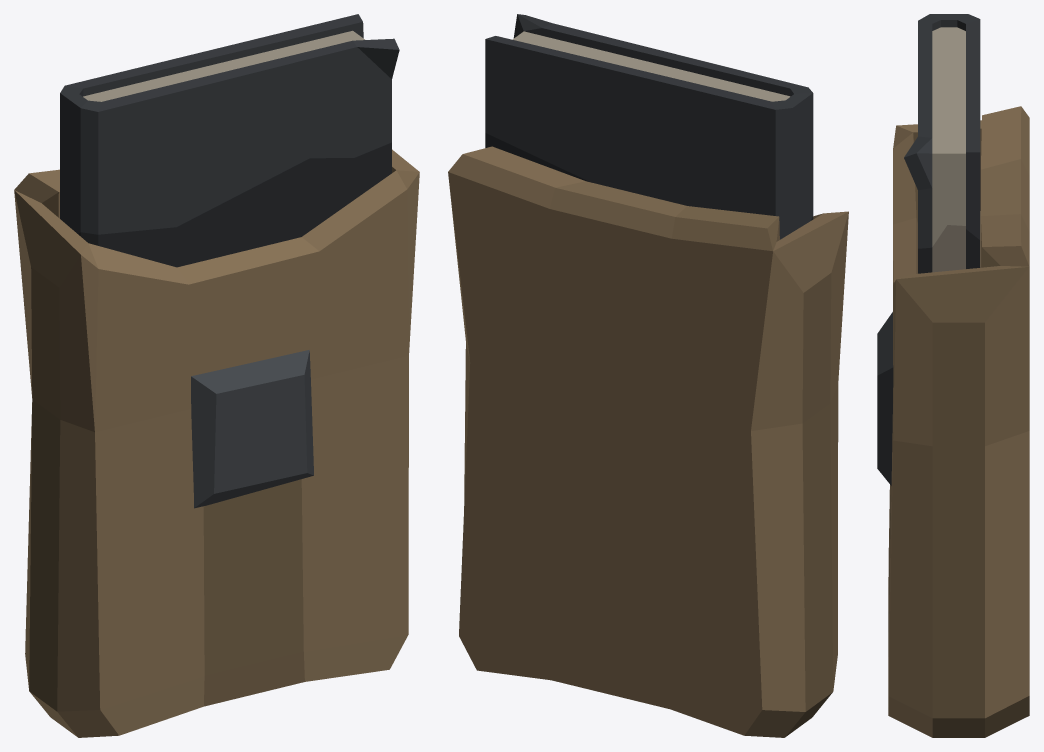
The model's file is SM_Chr_Attach_Book_Pouch_01.fbx.
3 renders of one model, left to right at view 1: azimuth 30°, elevation 25°; view 2: azimuth 150°, elevation 25°; view 3: azimuth 270°, elevation 25°, orthographic. The views are drawn at different scales.
Visible parts, largest first — view 1: SM_Chr_Attach_Book_Pouch_01; view 2: SM_Chr_Attach_Book_Pouch_01; view 3: SM_Chr_Attach_Book_Pouch_01.
Boxes of the visible parts, x1=… form: SM_Chr_Attach_Book_Pouch_01: x1=14, y1=14, x2=419, y2=737; SM_Chr_Attach_Book_Pouch_01: x1=448, y1=14, x2=848, y2=737; SM_Chr_Attach_Book_Pouch_01: x1=877, y1=14, x2=1029, y2=737.
Bounding box in the file's own units: 13.11 × 22.79 × 5.35.
